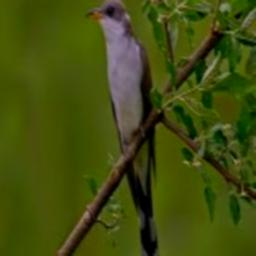Cuckoo: (86, 0, 164, 256)
